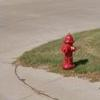Hydrant: (57, 28, 80, 73)
